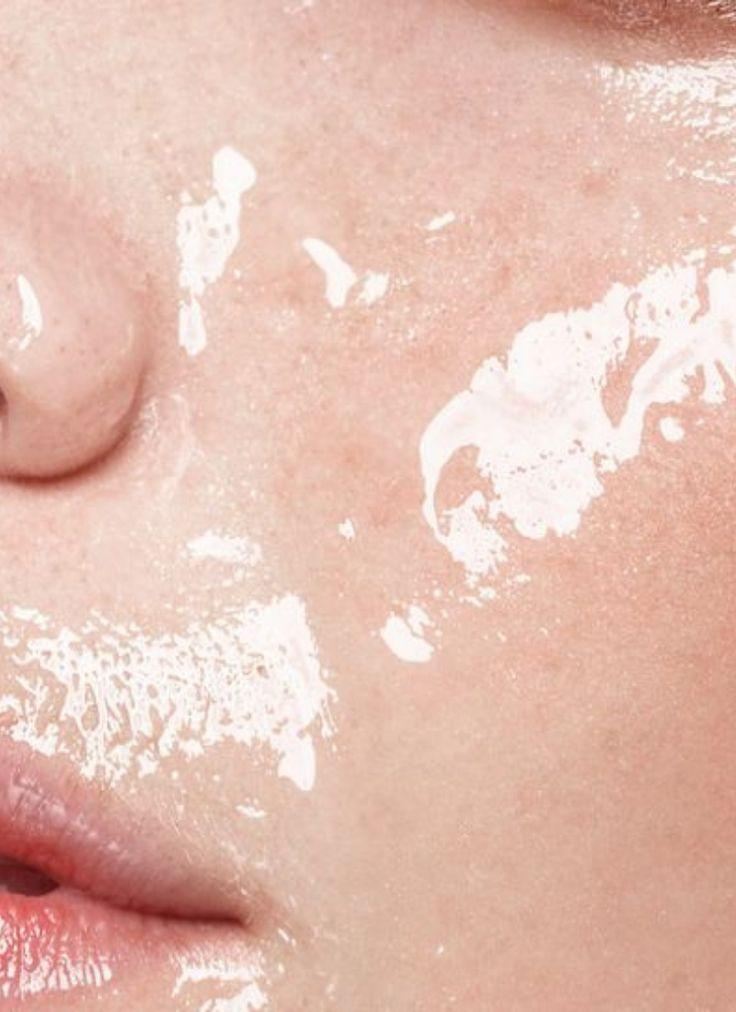Oily-Skin: (121, 634, 373, 780), (431, 404, 615, 582), (554, 251, 736, 386), (164, 191, 326, 342)
